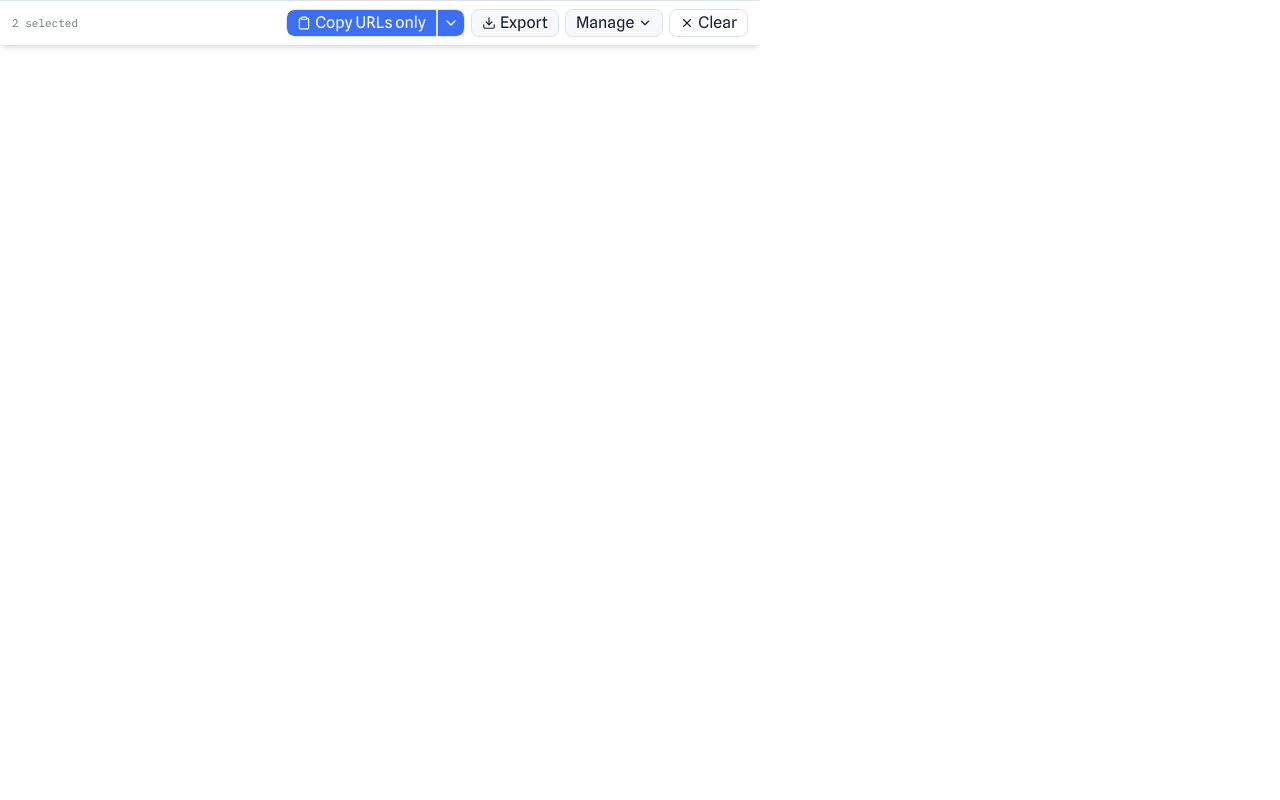
Test case: SelectionDock › opens the export dialog with the selected tabs when Export is clicked
Step 1. Click the button "Export" → (515,23), box [471, 9, 559, 37]
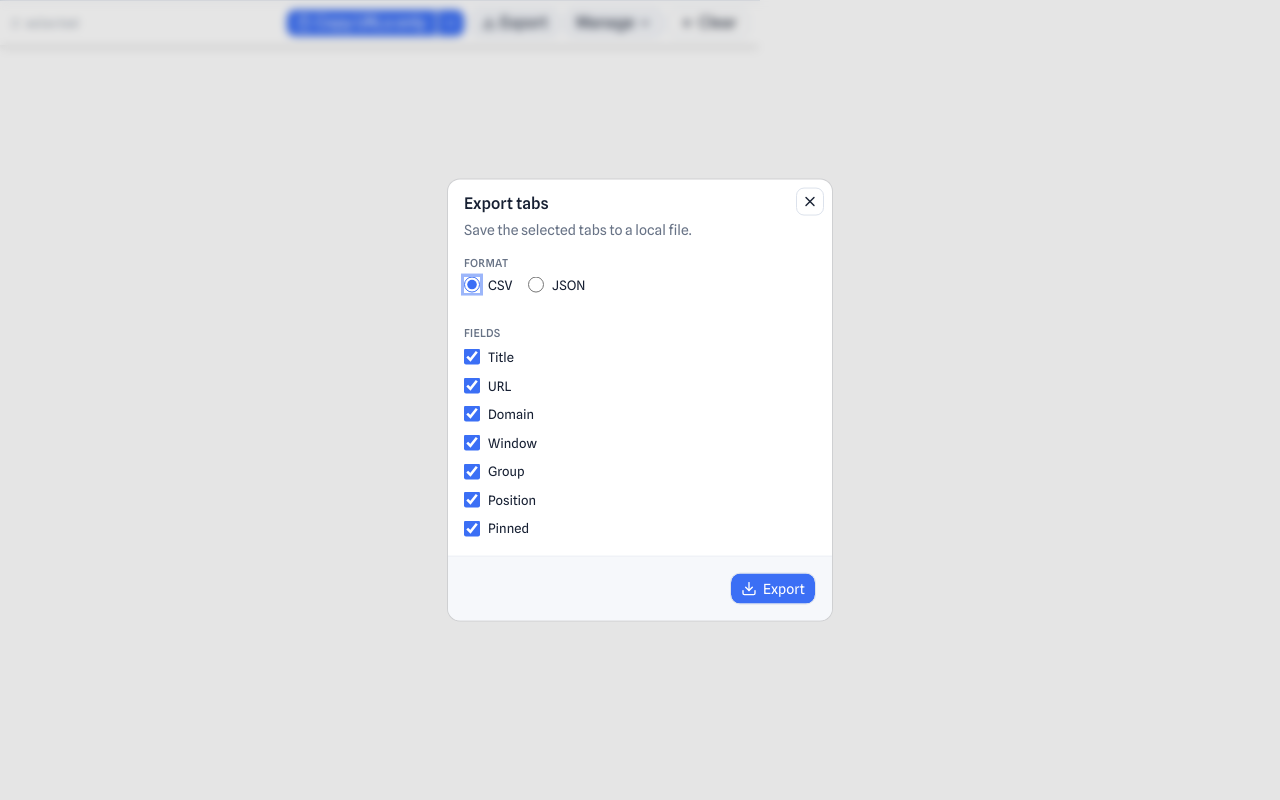
Check: the dialog "Export tabs" is shown, box [448, 180, 832, 620]
